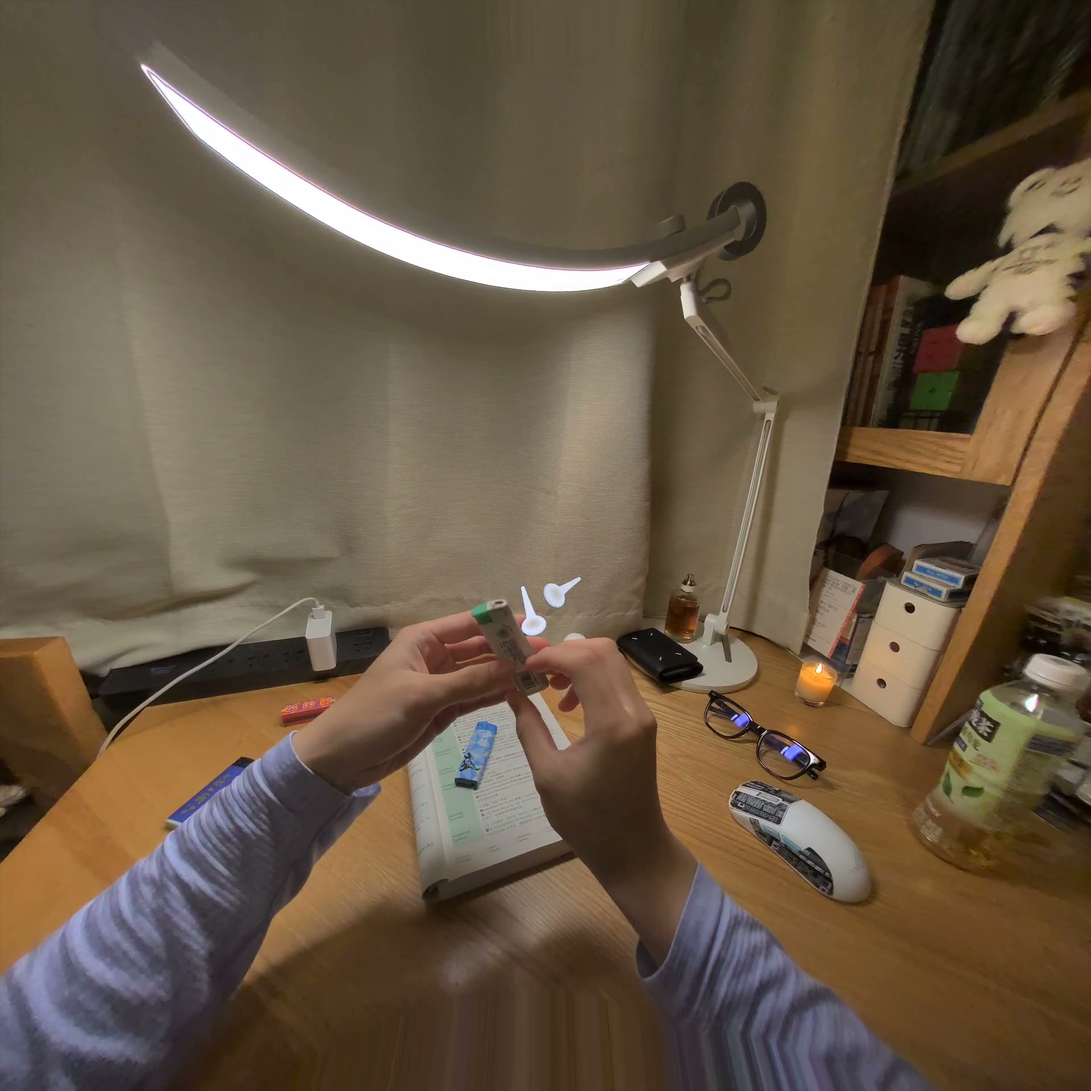lighter: (472, 600, 546, 694)
